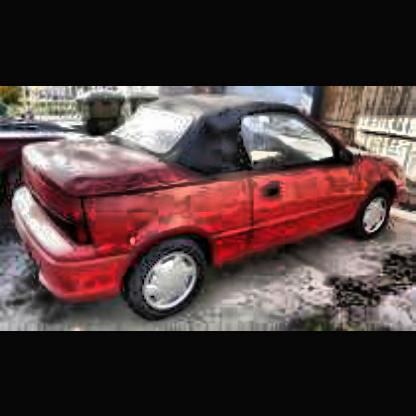Geo Metro Convertible 1993: (16, 96, 404, 317)
